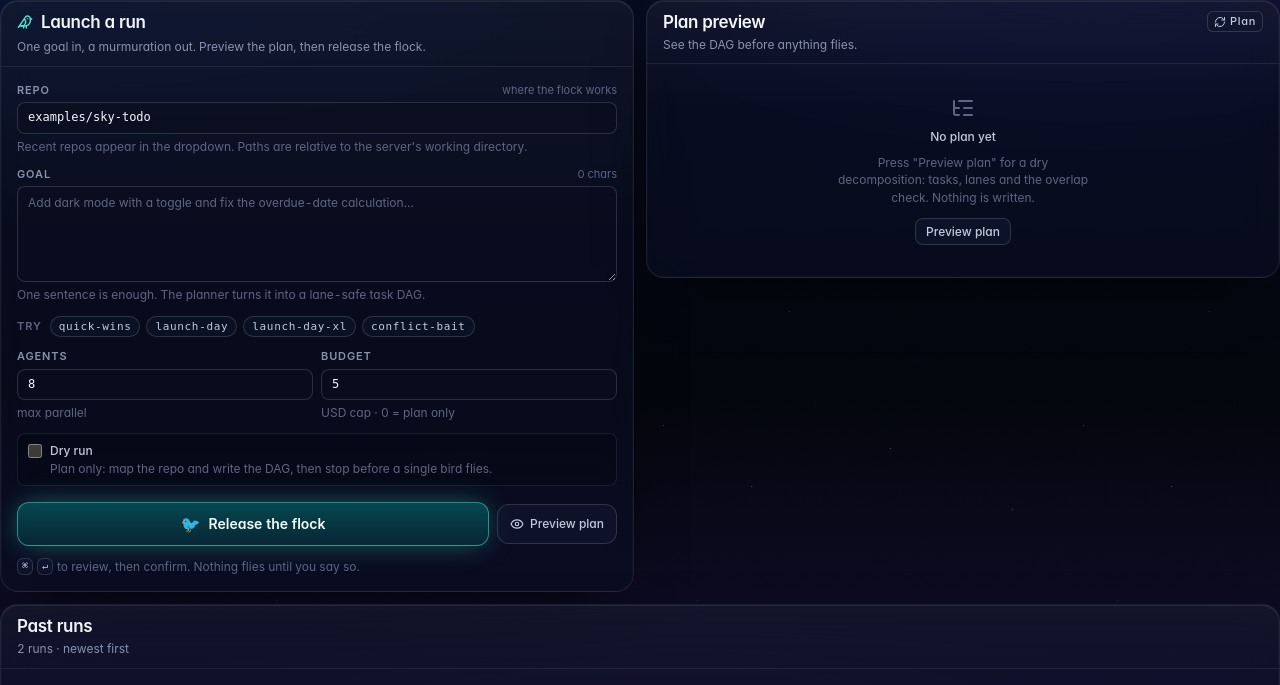
it: plan preview › renders every task with its lane, dependencies and a clear-lane badge
The width and height of the screenshot is (1280, 685).
Click the button "launch-day".
click(192, 326)  # box [146,316,237,337]
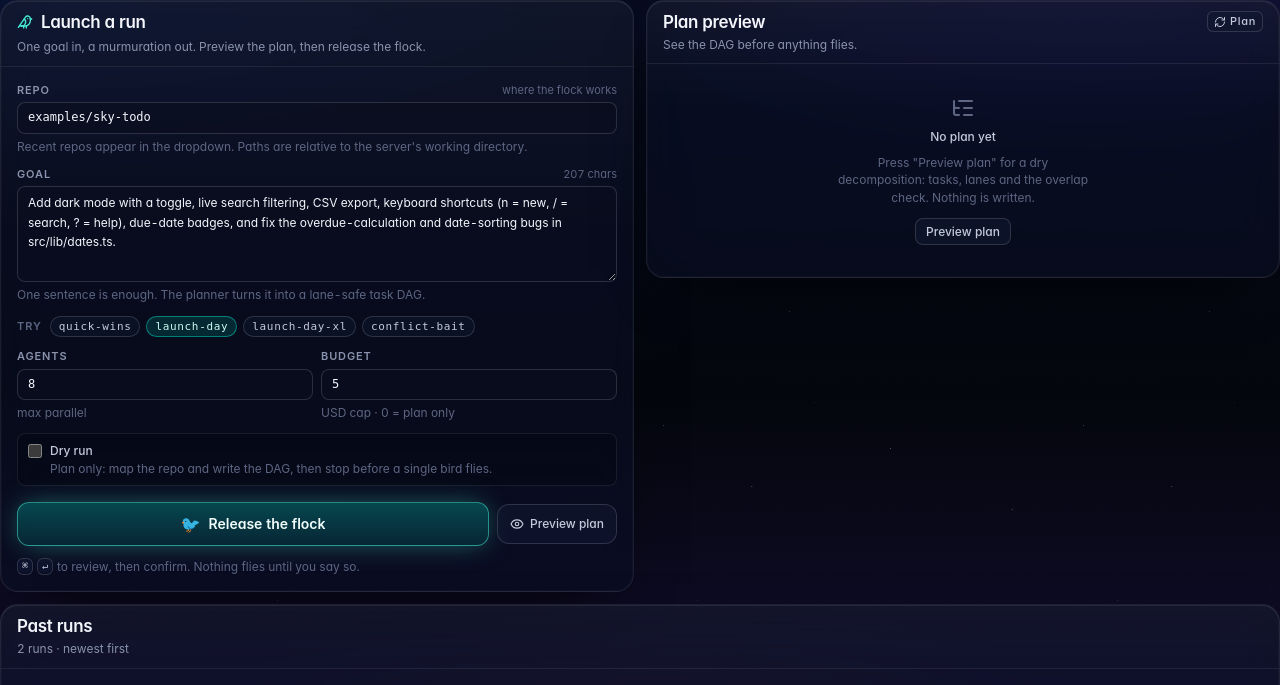
Click the button with test id "launch-preview-button".
click(557, 524)  # box [497,504,617,544]
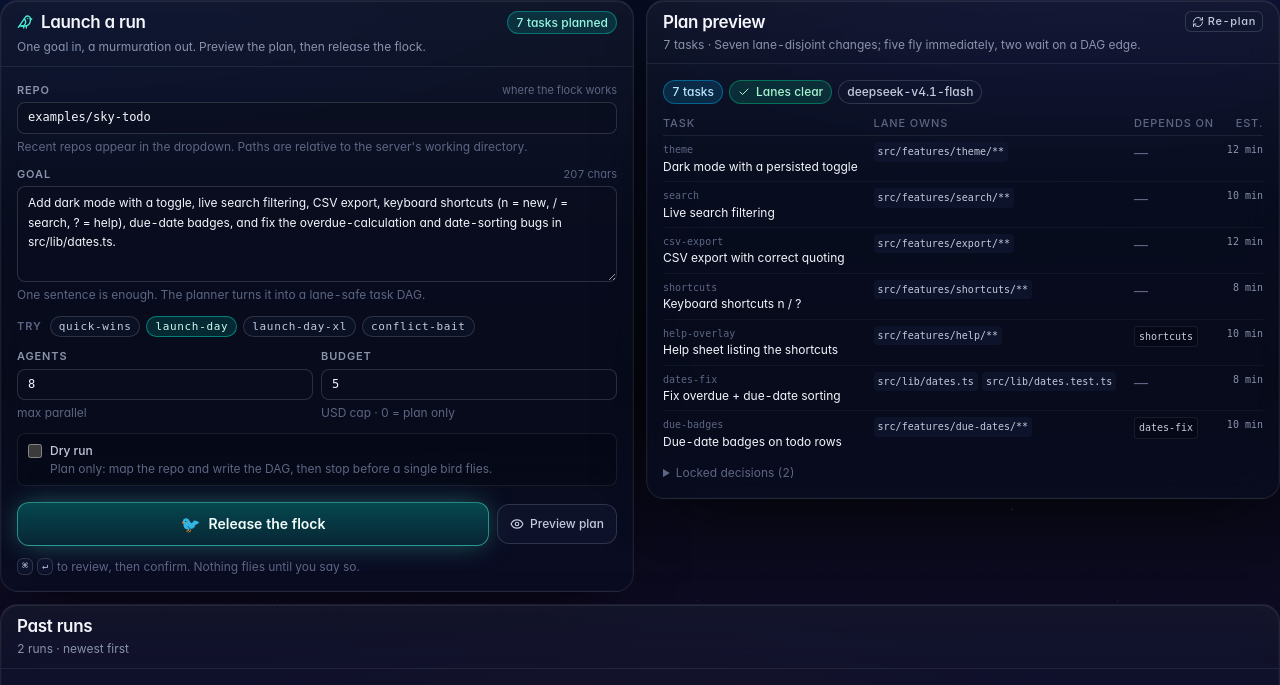
Now the element with test id "launch-preview-ready" is shown, box [663,80,1263,482]
Now the number of rows with test id "launch-plan-task" is 7
Now the text "help-overlay" is shown, box [663,328,735,339]
